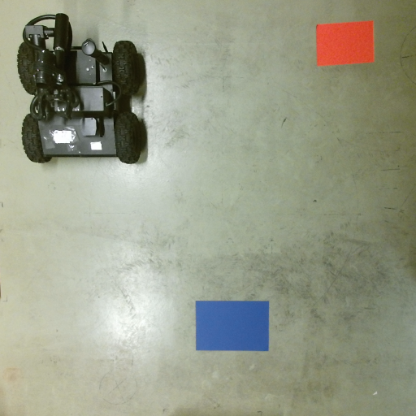Blue: (195, 299, 272, 354)
Jaguar: (13, 7, 148, 166)
Red: (315, 20, 377, 67)
